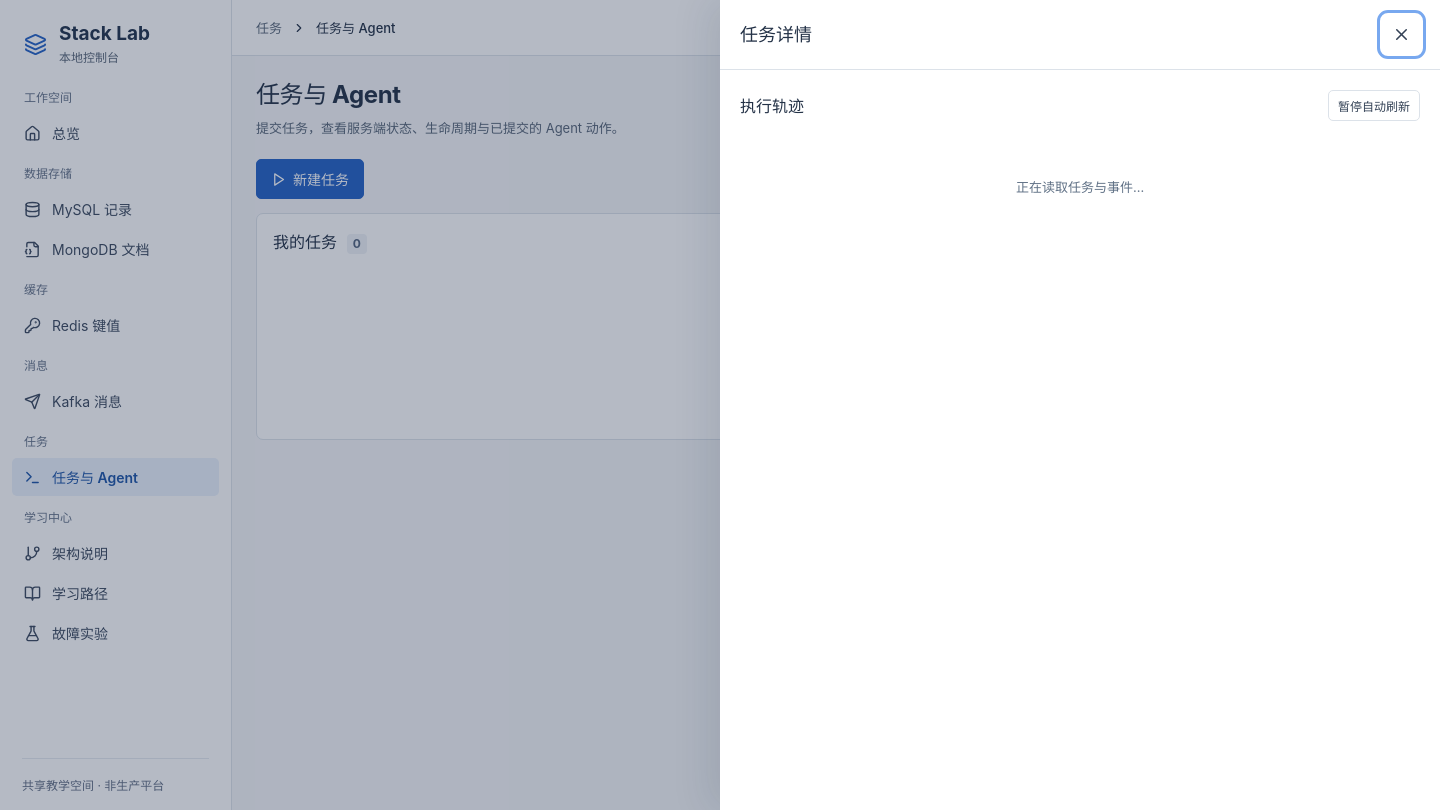
Test case: resource lifecycle › aborts pending detail reads when the user pauses polling
The image size is (1440, 810).
Click the button "暂停自动刷新": (1374, 106) [1328,90,1420,121]
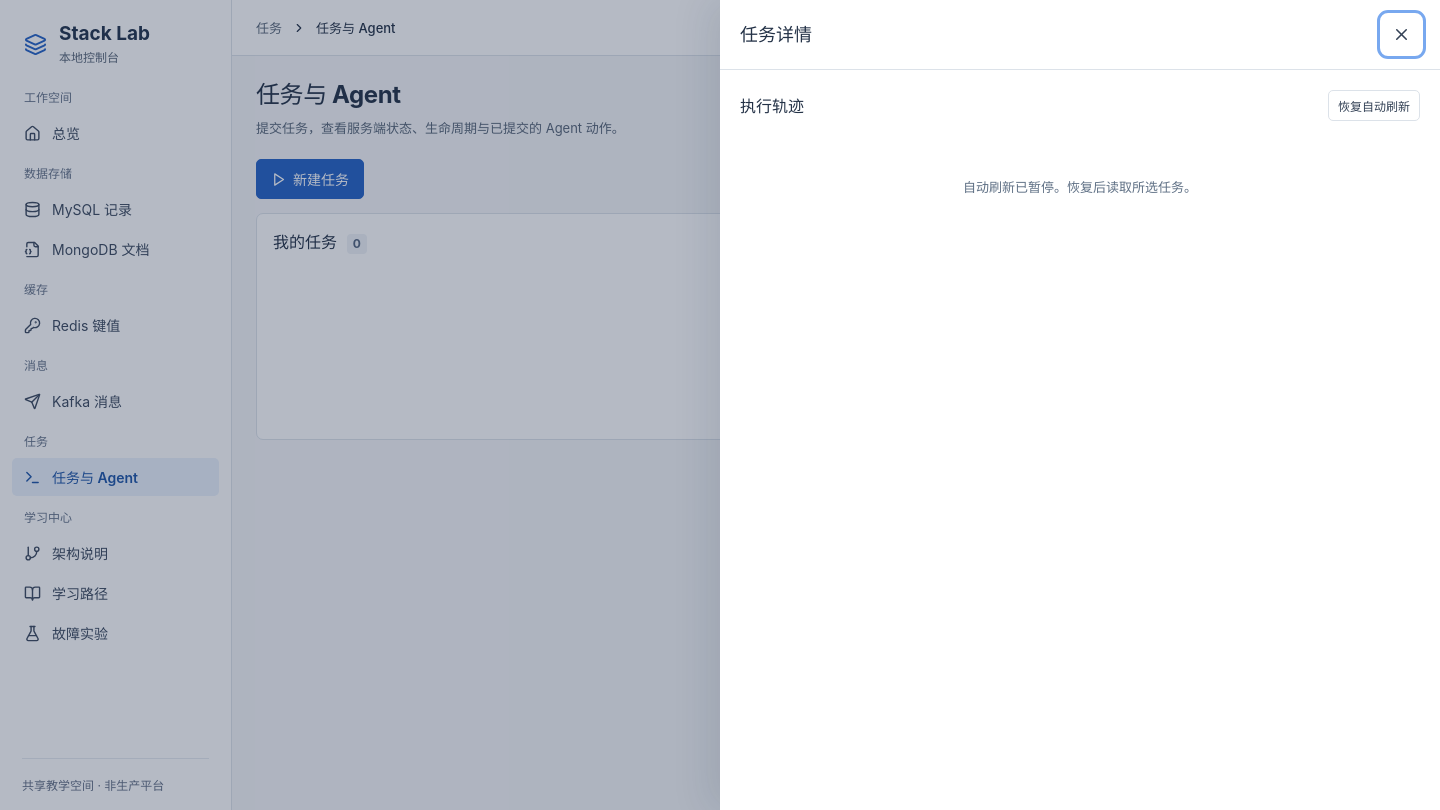
expect the text "自动刷新已暂停。恢复后读取所选任务。" is shown: met, box [963,179,1197,195]
